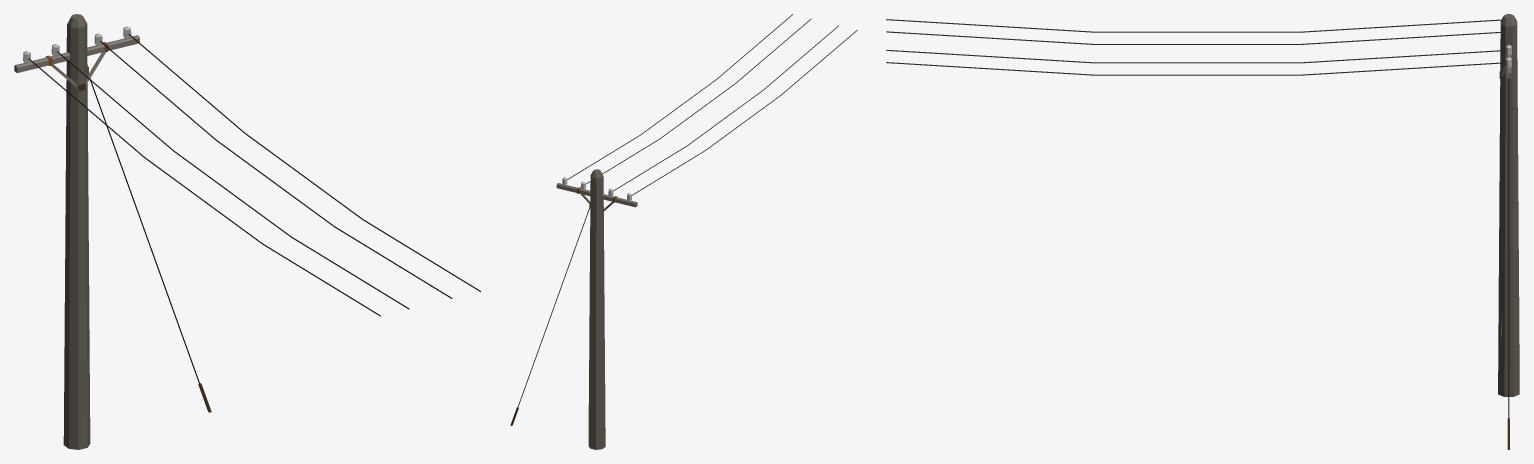
Rendered from railway-telegraph-pole-run-bb9354.glb.
3 renders of one model, left to right at view 1: azimuth 30°, elevation 25°; view 2: azimuth 150°, elevation 25°; view 3: azimuth 270°, elevation 25°, orthographic. The views are drawn at different scales.
Parts seen in each view (by area): view 1: pole, pole-head; view 2: pole, pole-head; view 3: pole.
Boxes of the visible parts, bbox=[...] form: pole: bbox=[28, 24, 480, 449]; pole-head: bbox=[14, 14, 139, 90]; pole: bbox=[510, 14, 857, 449]; pole-head: bbox=[556, 169, 637, 210]; pole: bbox=[886, 19, 1519, 449].
Size of the model in its own units: 3.82 by 8 by 12.21.
